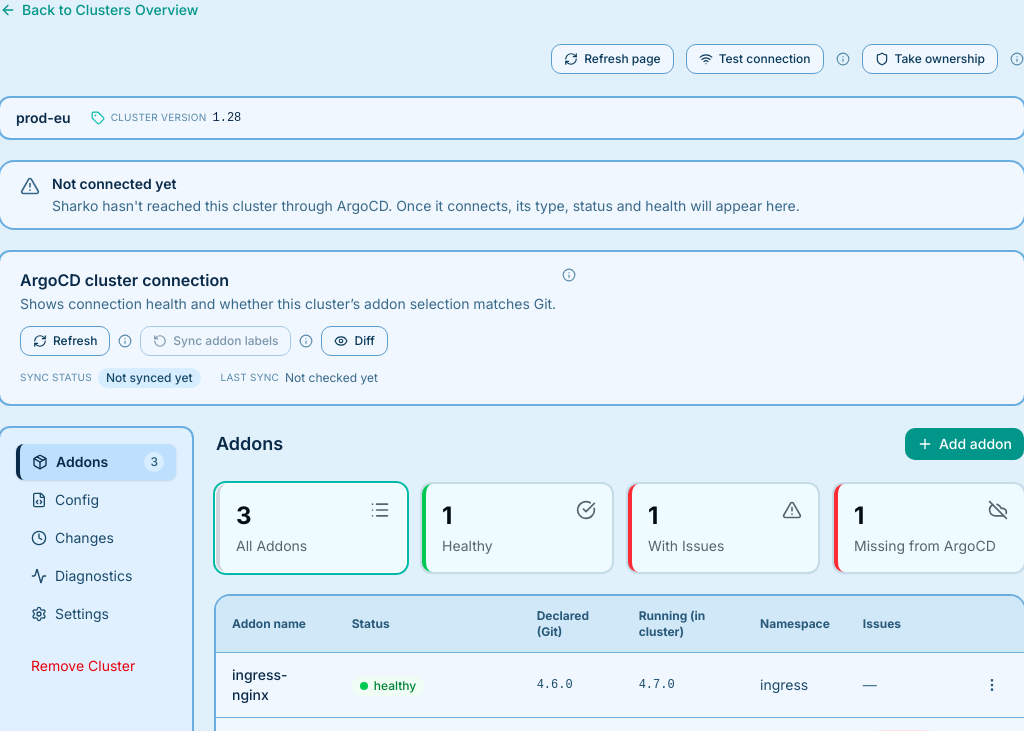
Test: ClusterDetail › V125-1-10.5: per-error-code Test failure banner › renders no_secrets_backend banner with Settings link (BUG-035 regression)
Check: the heading "prod-eu" is shown, box [16,108,71,128]
Click the button "Test connection". click: point(755, 59)
box: [686,44,824,74]
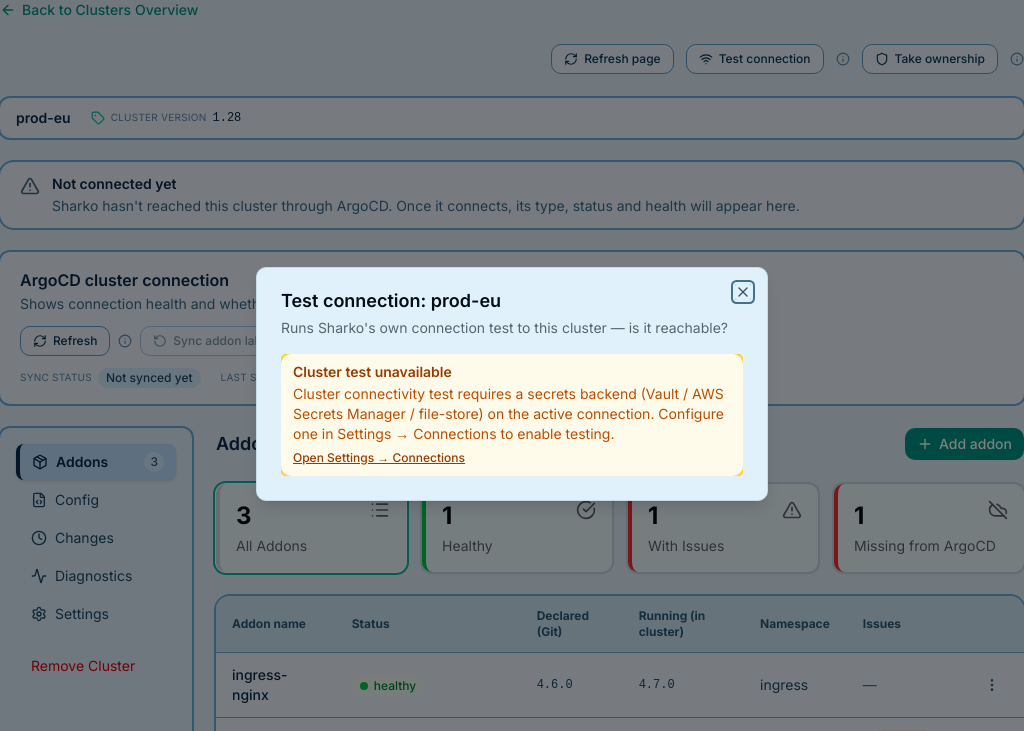
Check: the message with test id "test-unavailable-banner" is shown, box [281,354,743,476]
Check: the message with test id "test-unavailable-banner" shows "Cluster test unavailable", box [293,363,452,380]
Check: the message with test id "test-unavailable-banner" shows "secrets backend", box [293,385,724,442]
